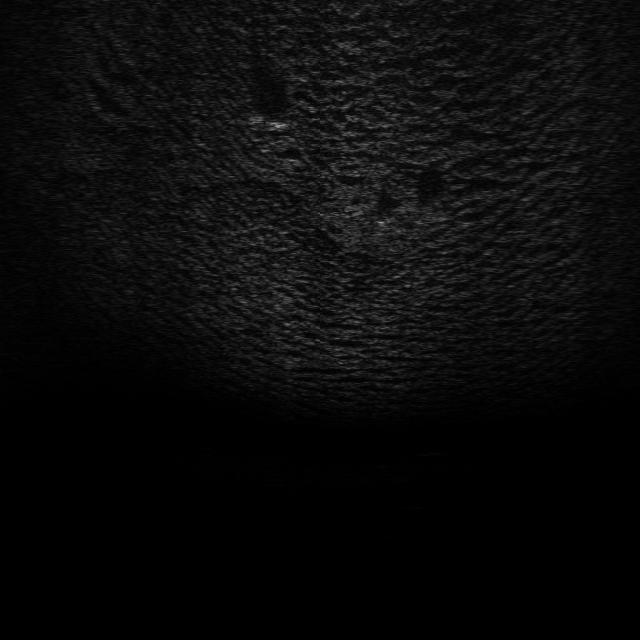plane: (243, 107, 292, 133)
